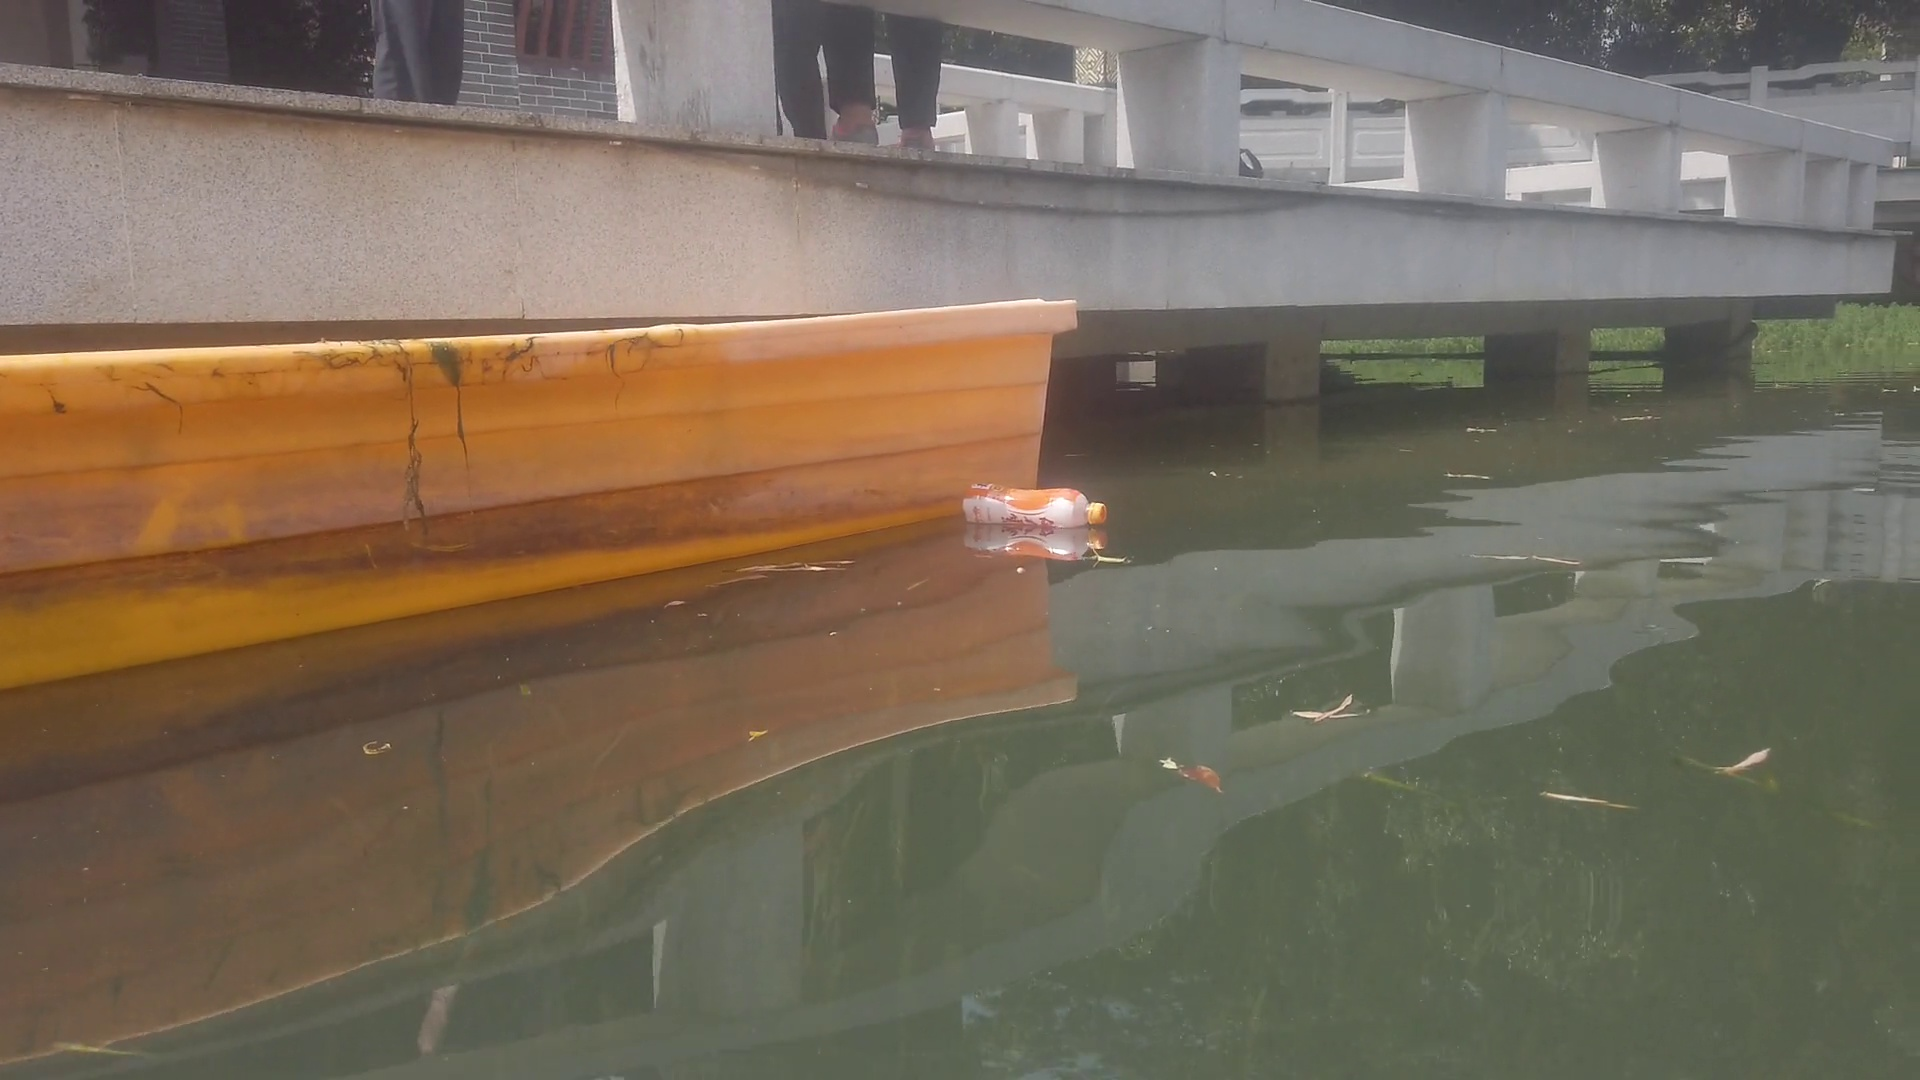bottle: (964, 483, 1106, 527)
